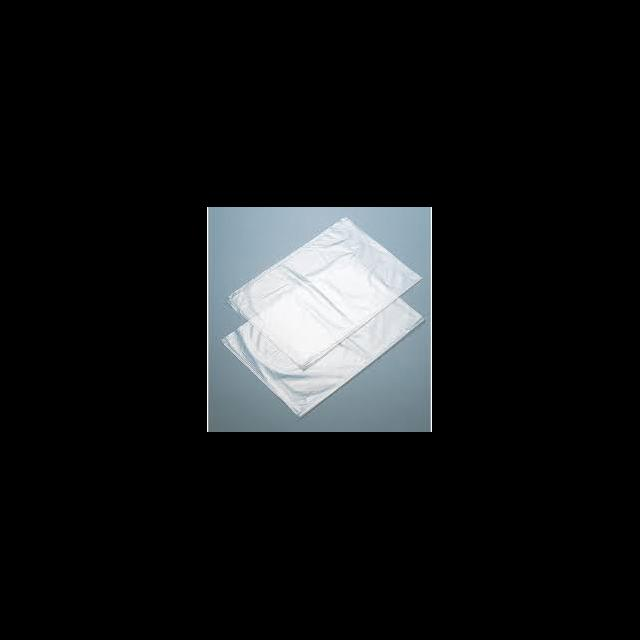plastic: (226, 216, 424, 370), (220, 296, 426, 418)
